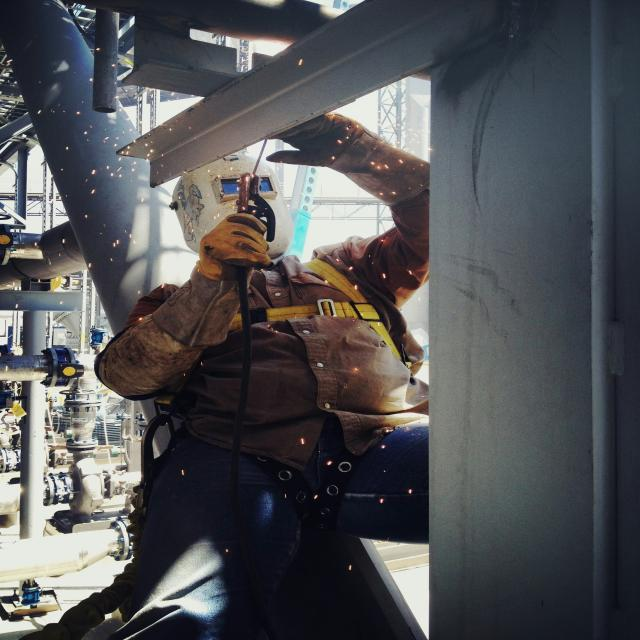with_helmet: (175, 148, 300, 262)
